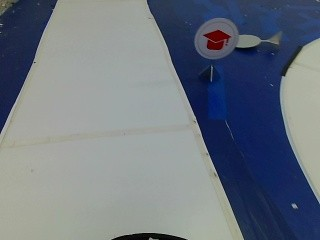school: (193, 16, 238, 60)
